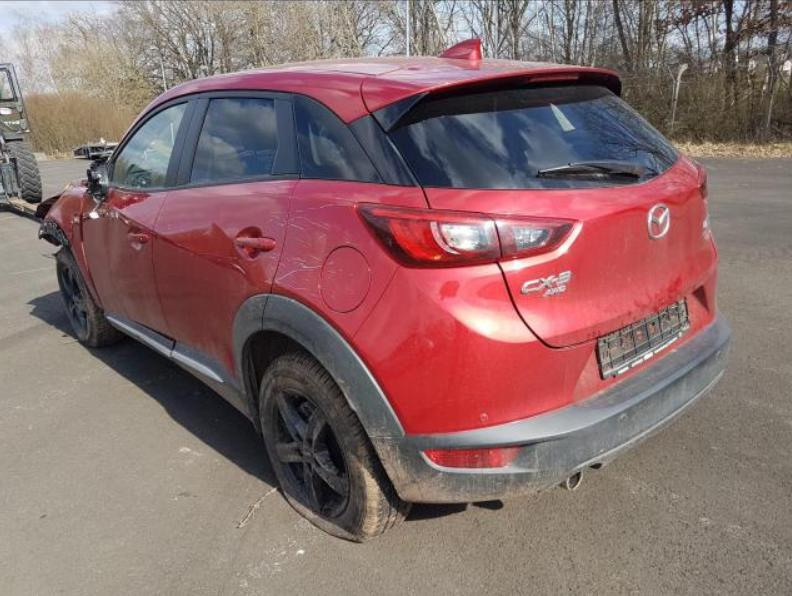Back-bumper: (262, 265, 733, 504)
Back-door: (153, 91, 298, 397)
Back-wheel: (258, 353, 414, 541)
Back-window: (293, 93, 384, 183), (190, 99, 279, 183)
Back-windshield: (386, 80, 679, 190)
Fender: (36, 180, 105, 314)
Front-bumper: (38, 220, 69, 251)
Front-door: (83, 93, 199, 340)
Front-wheel: (56, 248, 124, 348)
Front-window: (112, 102, 188, 190)
License-plate: (599, 298, 690, 379)
Mirror: (87, 160, 109, 202)
Quarter-panel: (272, 179, 428, 343)
Rocker-panel: (106, 312, 250, 415)
Roof: (155, 40, 536, 124)
Tail-light: (357, 204, 500, 269), (489, 213, 576, 260), (693, 160, 708, 197)
Trunk: (424, 156, 718, 347), (362, 62, 624, 132)
